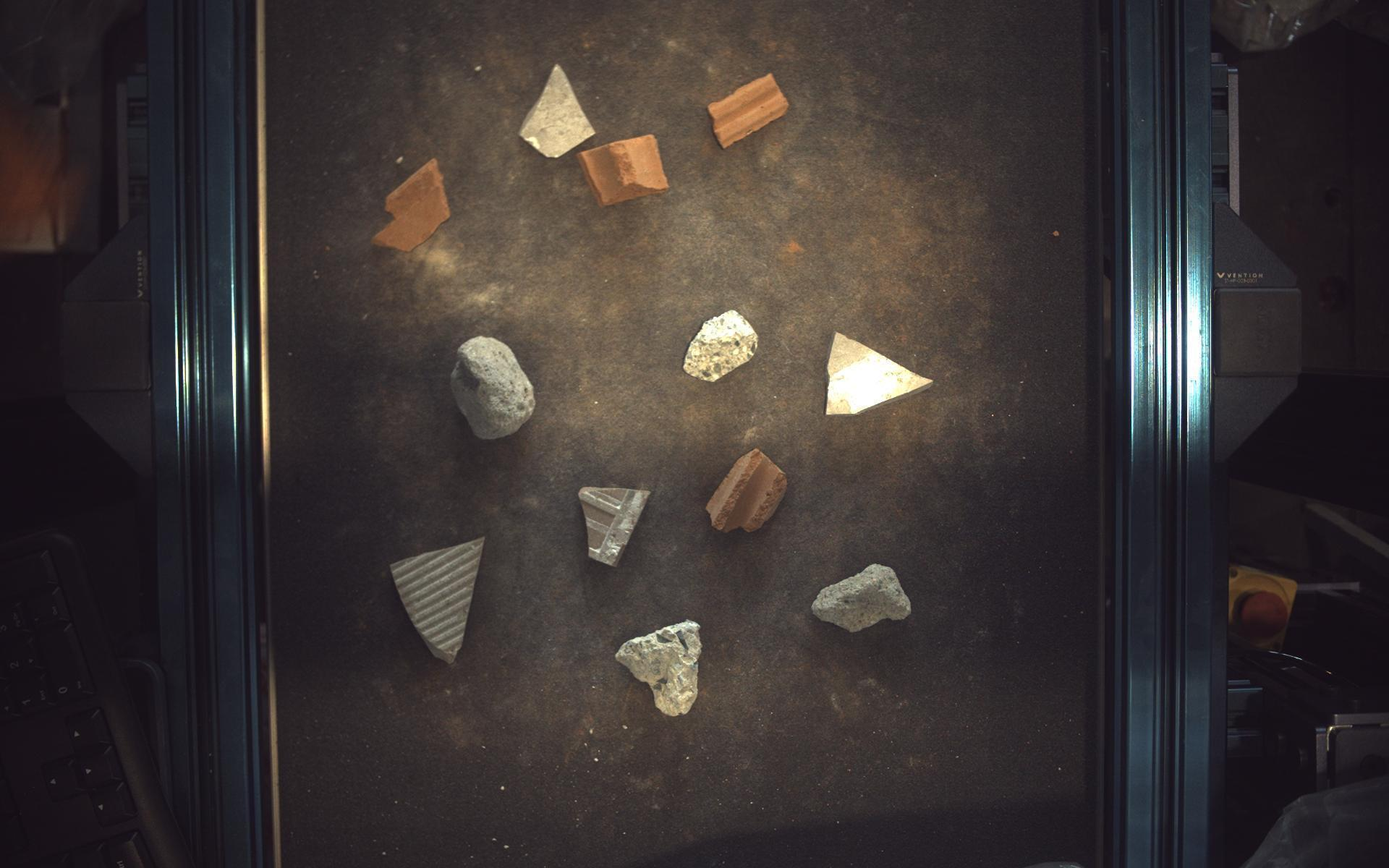brick: (372, 158, 451, 250), (707, 448, 789, 532), (578, 134, 669, 205), (710, 72, 789, 147)
concrete: (451, 336, 535, 440), (616, 621, 702, 718), (814, 564, 912, 633), (684, 310, 759, 382)
tile: (390, 538, 485, 665), (827, 333, 935, 415), (519, 63, 596, 157), (579, 488, 650, 567)
